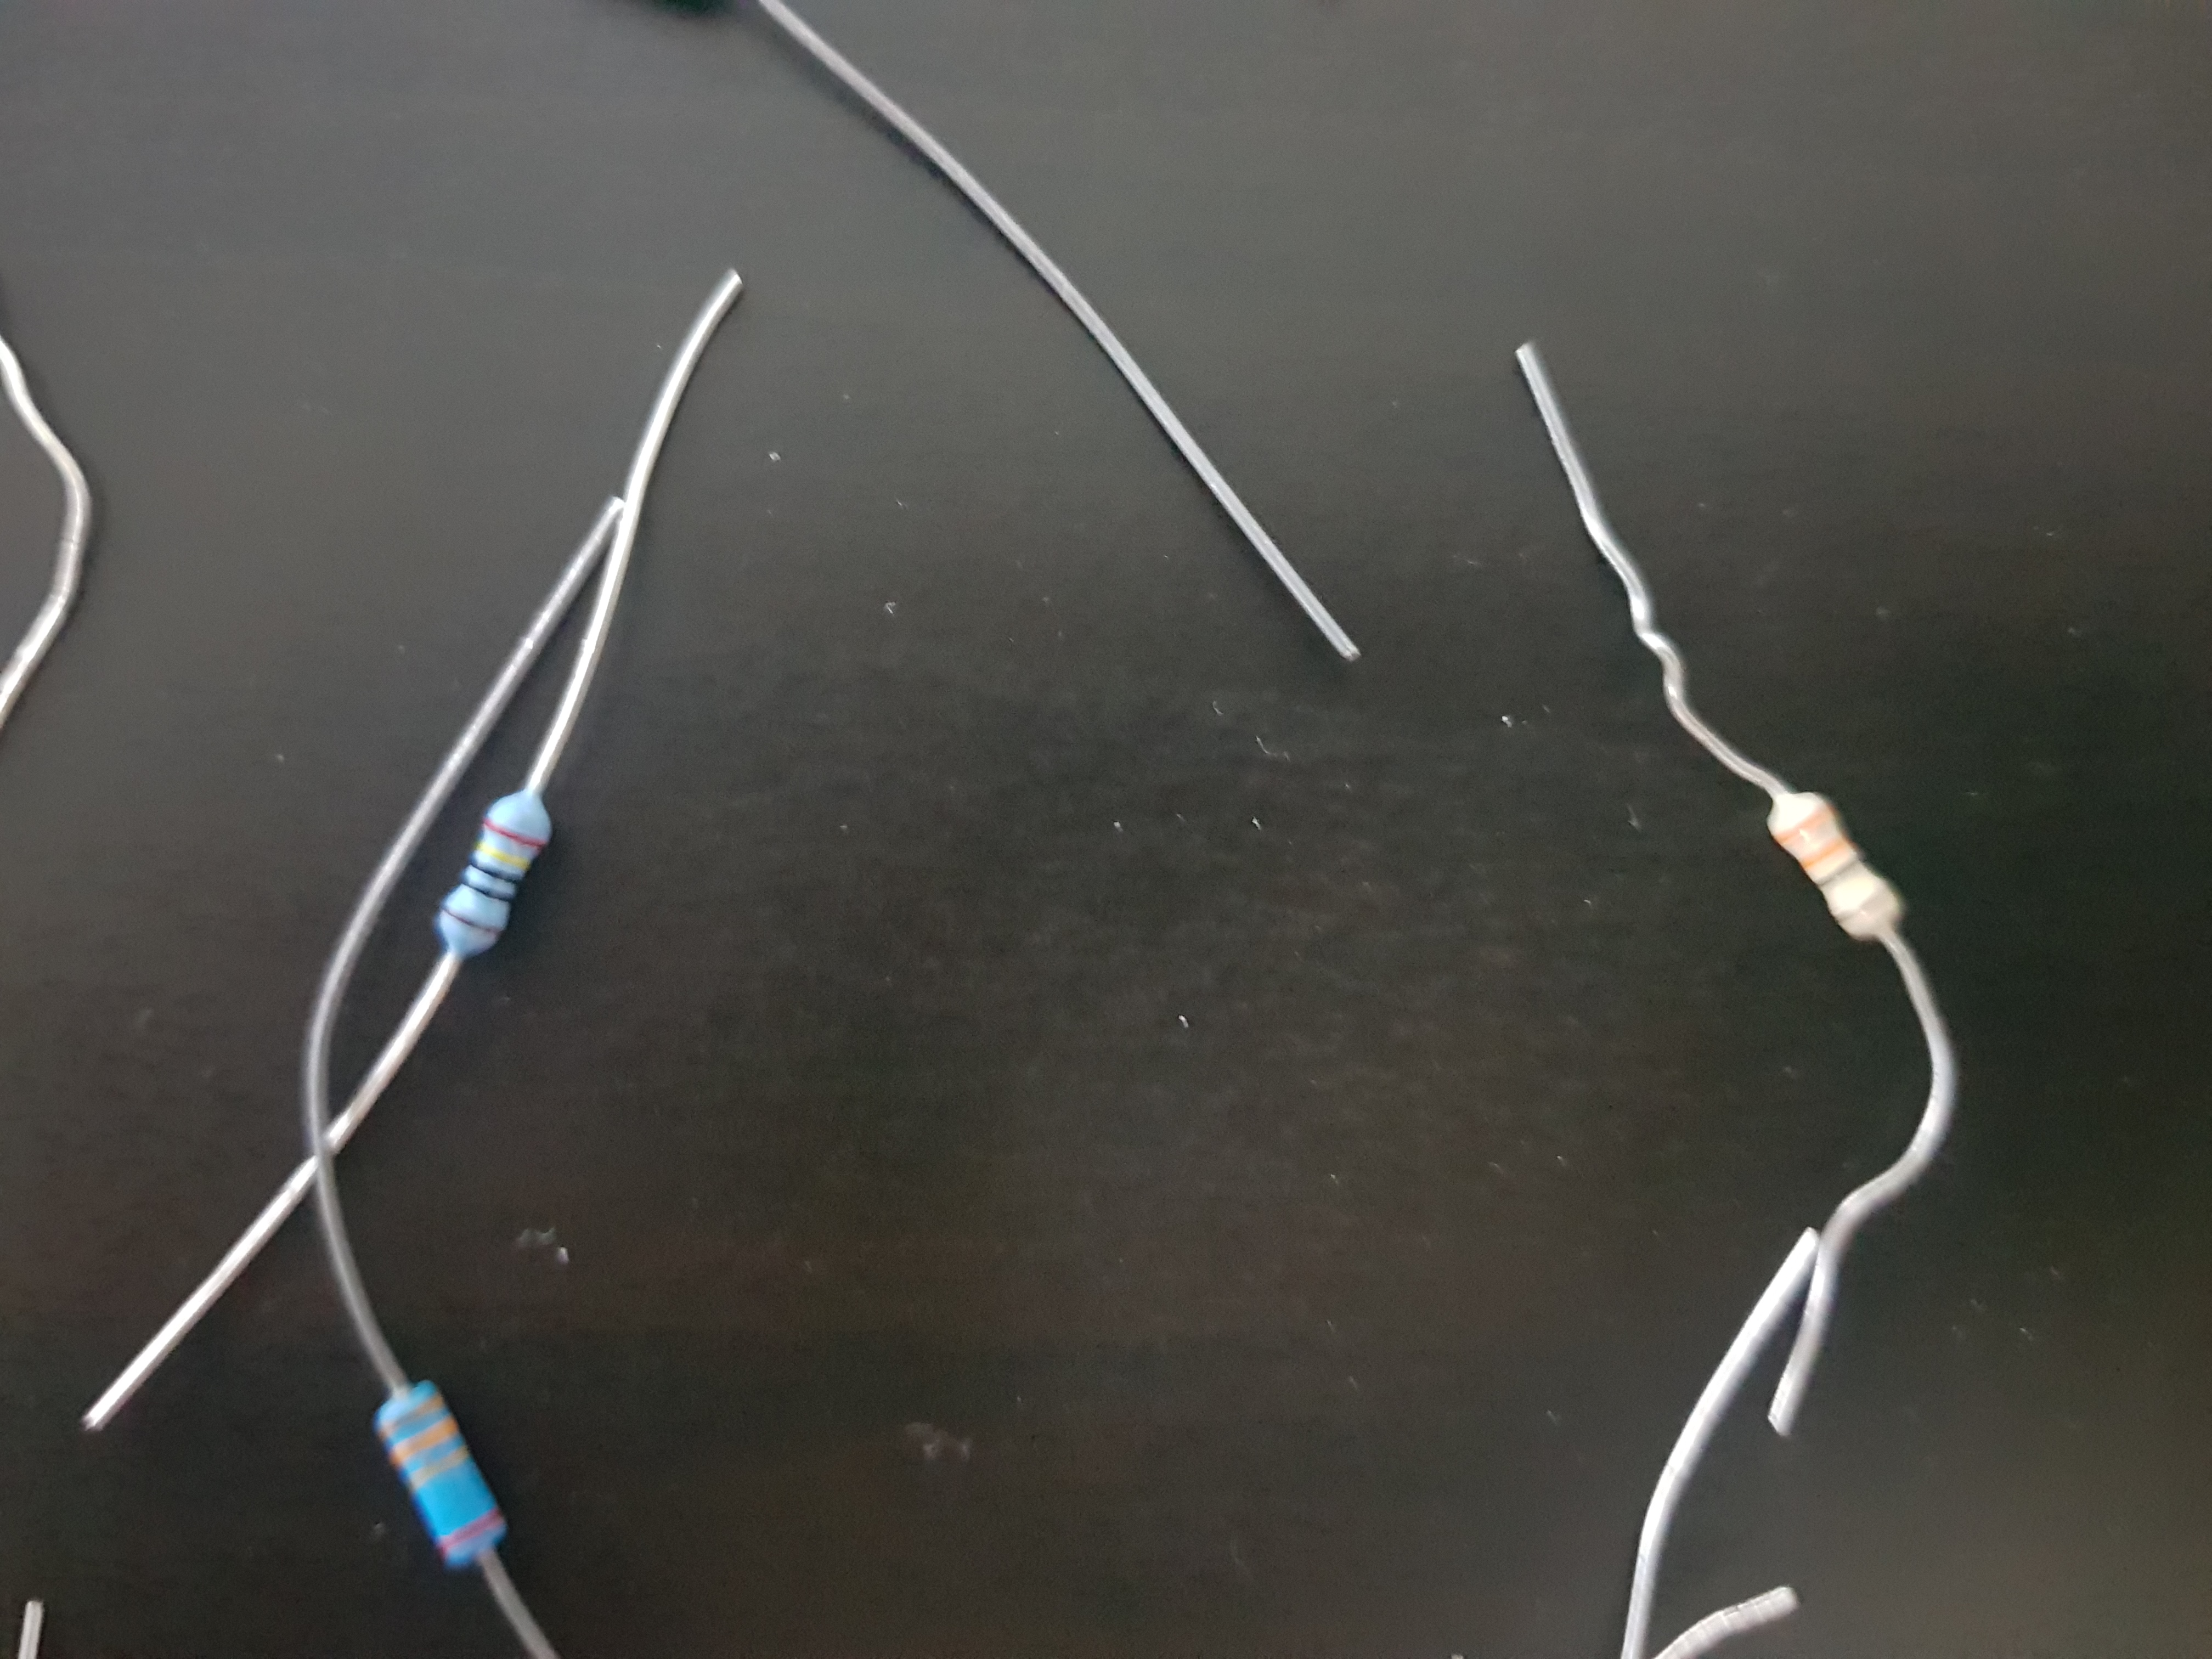resistor: (327, 721, 653, 1021), (315, 1321, 575, 1650), (1717, 744, 1951, 1021)
